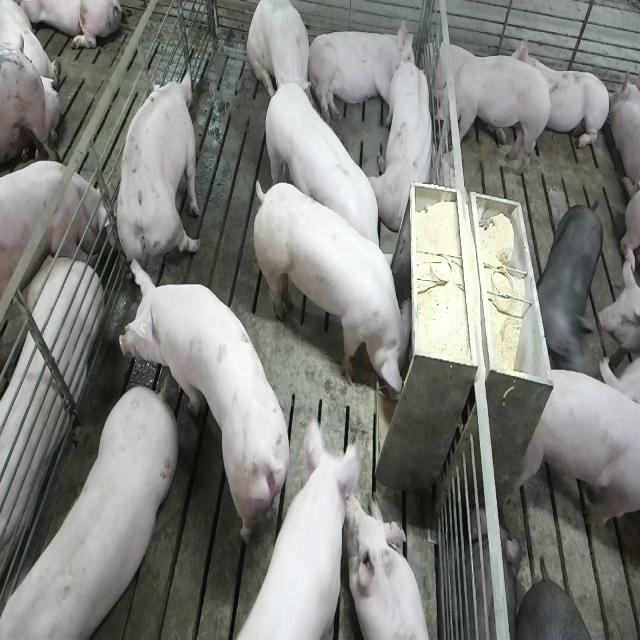Feeding: (255, 174, 419, 408)
Lateral_lying: (0, 218, 103, 592), (306, 18, 416, 126)
Sitting: (247, 0, 316, 116)
Standing: (122, 266, 294, 554), (0, 384, 175, 639), (260, 78, 390, 280), (508, 367, 638, 543), (116, 70, 204, 283), (426, 49, 554, 182), (0, 161, 106, 302), (534, 203, 604, 380)
Sternal_lying: (349, 490, 437, 638), (514, 31, 610, 154), (374, 56, 437, 233)
